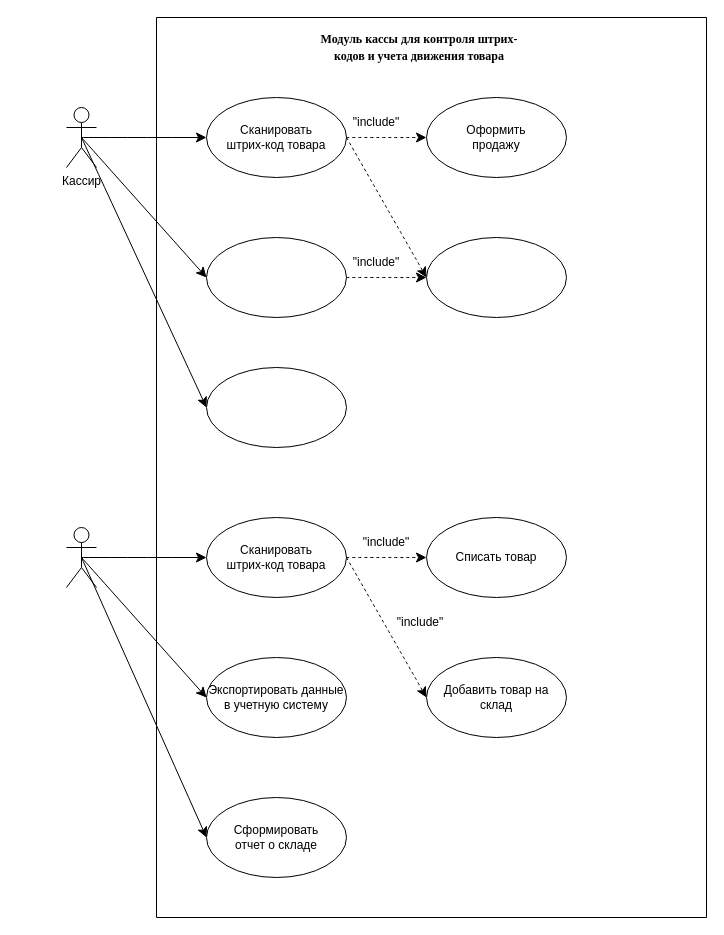
Some shapes in this 724 by 935 pixel diagram are drawn without their labels. Here are the shapes that lost their labels. From the top down, the box of each, then its label:
(206, 236, 346, 318): Оформить возврат товара
(426, 236, 566, 318): Сформировать чек
(206, 366, 346, 448): Сформировать отчет о продажах/возвратах
(66, 526, 96, 588): Администратор склада
